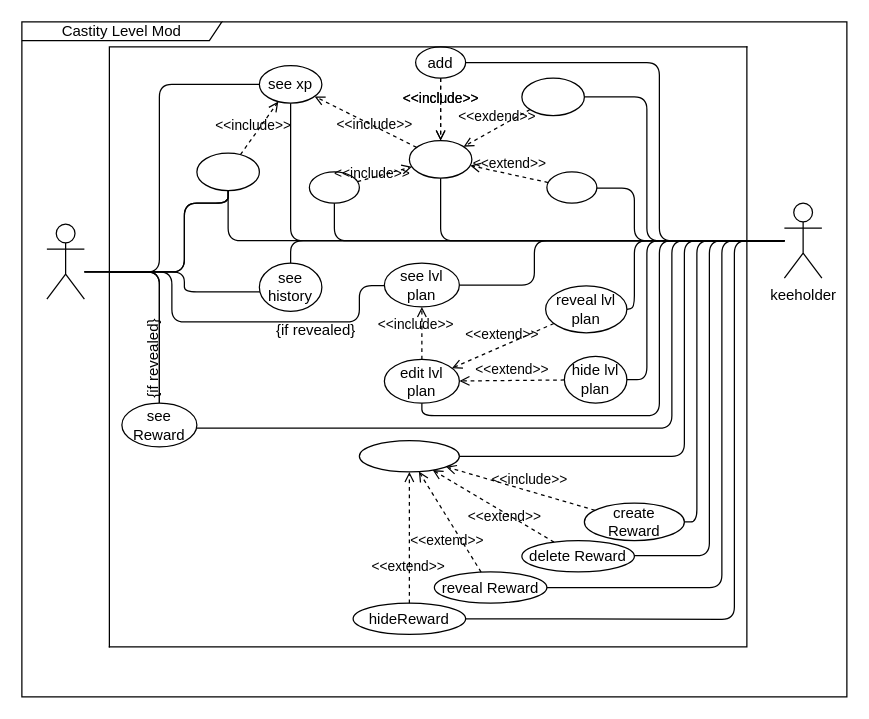
Some shapes in this 869 by 719 pixel diagram are drawn without their labels. Each missing label, with the centre of its shape:
"boost" belongs at (571,187).
"delete" belongs at (333,187).
"edit Reward" belongs at (408,455).
"edit xp" belongs at (440,158).
"freeze" belongs at (552,96).
"lockee" belongs at (65,261).
"see lvl" belongs at (227,171).
